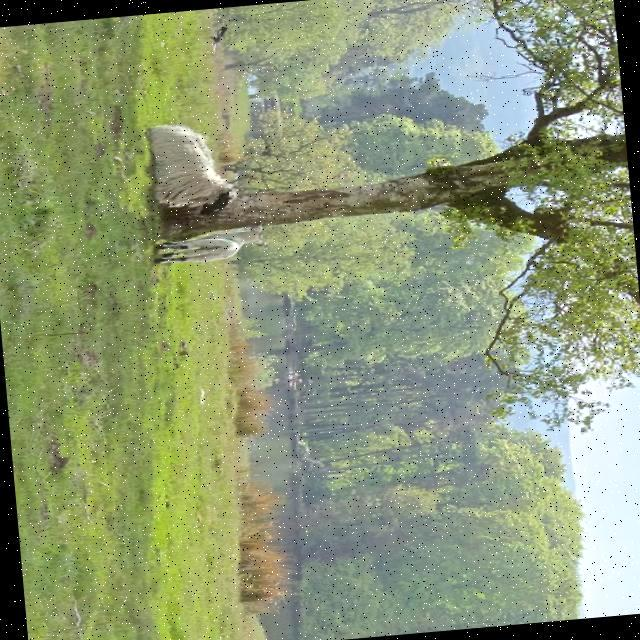sheep: (146, 126, 235, 212), (152, 225, 261, 262)
